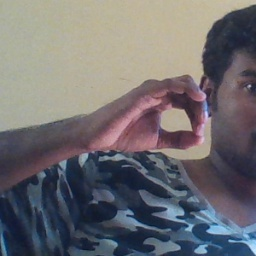O: (89, 71, 211, 159)
